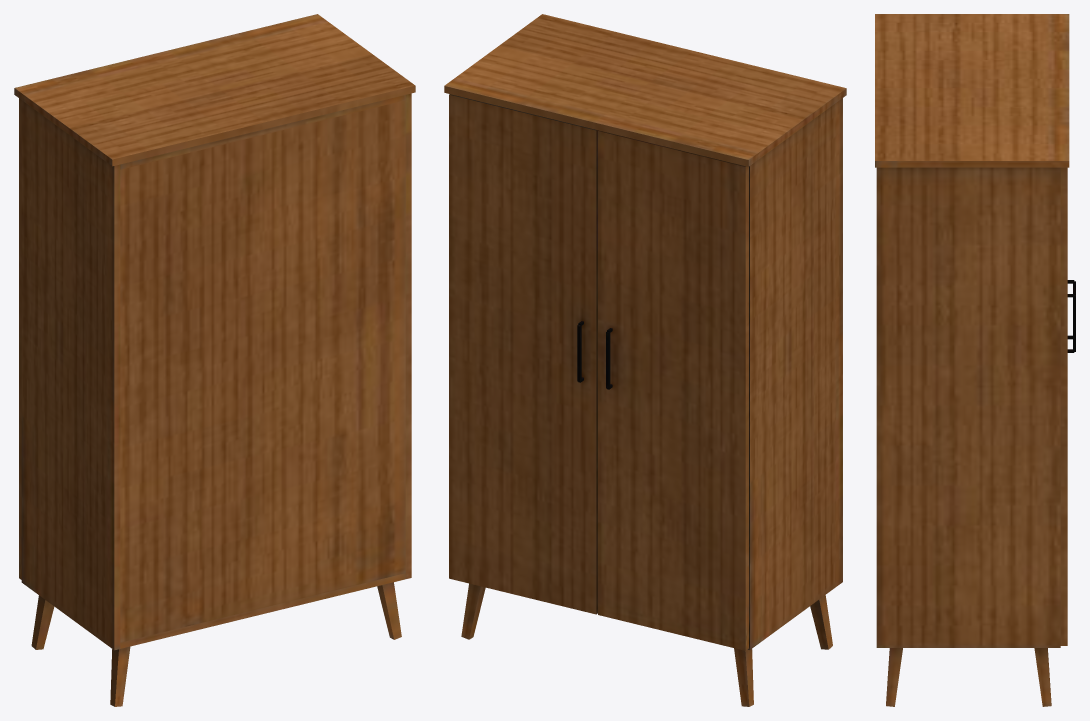
Rendered from wardrobe_legs_lod1_web.glb.
The picture shows the model from 3 angles, left to right: view 1: azimuth 30°, elevation 25°; view 2: azimuth 150°, elevation 25°; view 3: azimuth 270°, elevation 25°; orthographic projection.
Visible parts, largest first — view 1: WardrobeLegs_Body, Door_R_Mesh; view 2: WardrobeLegs_Body, Door_R_Mesh, Door_L_Mesh; view 3: WardrobeLegs_Body, Door_L_Mesh.
Boxes of the visible parts, x1,y1,x2,y2 form: WardrobeLegs_Body: [14, 14, 415, 706]; Door_R_Mesh: [19, 98, 21, 579]; WardrobeLegs_Body: [444, 14, 846, 706]; Door_R_Mesh: [598, 130, 748, 650]; Door_L_Mesh: [449, 94, 598, 614]; WardrobeLegs_Body: [875, 14, 1069, 706]; Door_L_Mesh: [1060, 167, 1075, 645].
Size of the model in its own units: 1.02 by 1.79 by 0.5895.
Materials: 1 (1 with a texture image).
